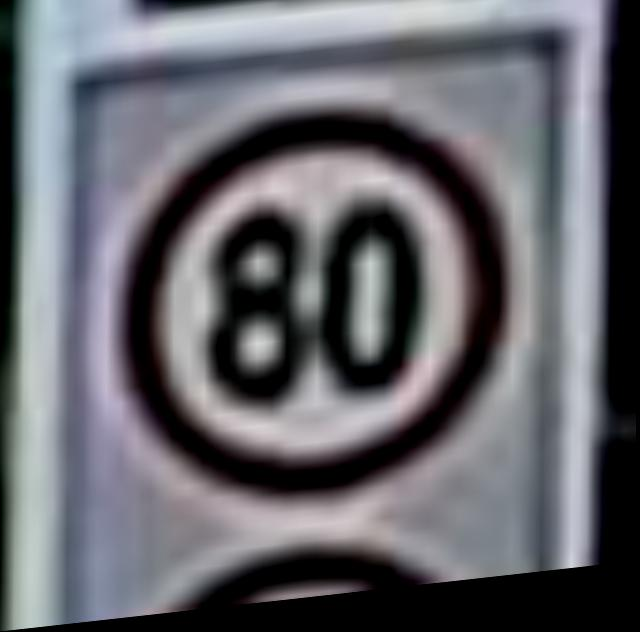limit80: (122, 79, 518, 517)
